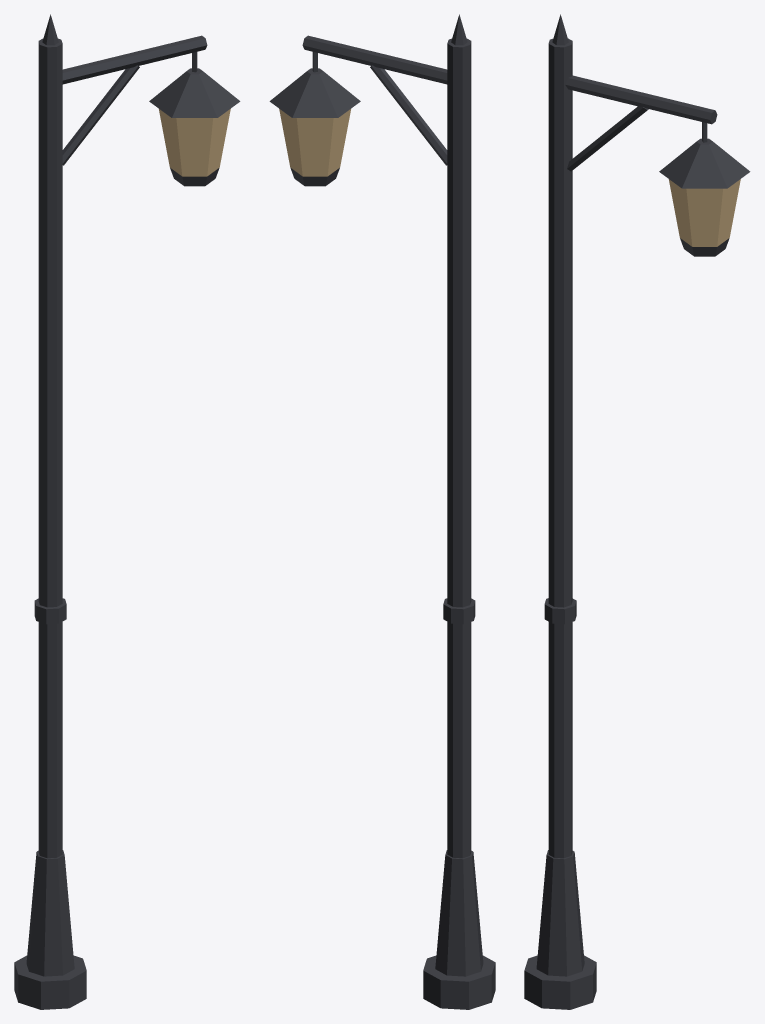
Rendered from objet_lampadaire_crosse.glb.
The picture shows the model from 3 angles, left to right: view 1: azimuth 30°, elevation 25°; view 2: azimuth 150°, elevation 25°; view 3: azimuth 330°, elevation 25°; orthographic projection.
Parts seen in each view (by area): view 1: objet_lampadaire_crosse; view 2: objet_lampadaire_crosse; view 3: objet_lampadaire_crosse.
Part boxes in pixels (x1,y1,x2,y2): objet_lampadaire_crosse: (14, 14, 240, 1009); objet_lampadaire_crosse: (269, 14, 495, 1009); objet_lampadaire_crosse: (524, 14, 750, 1009).
Size of the model in its own units: 1.17 by 5.2 by 0.44.
